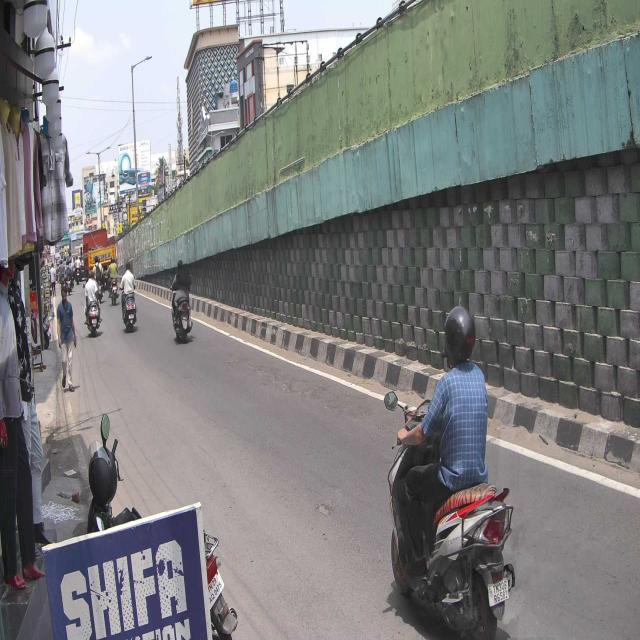single_rider: (383, 303, 517, 640)
